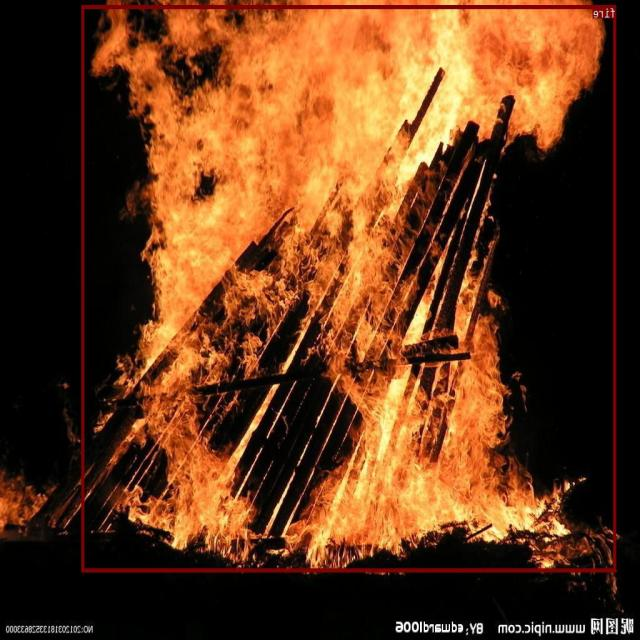fire: (82, 5, 617, 571)
